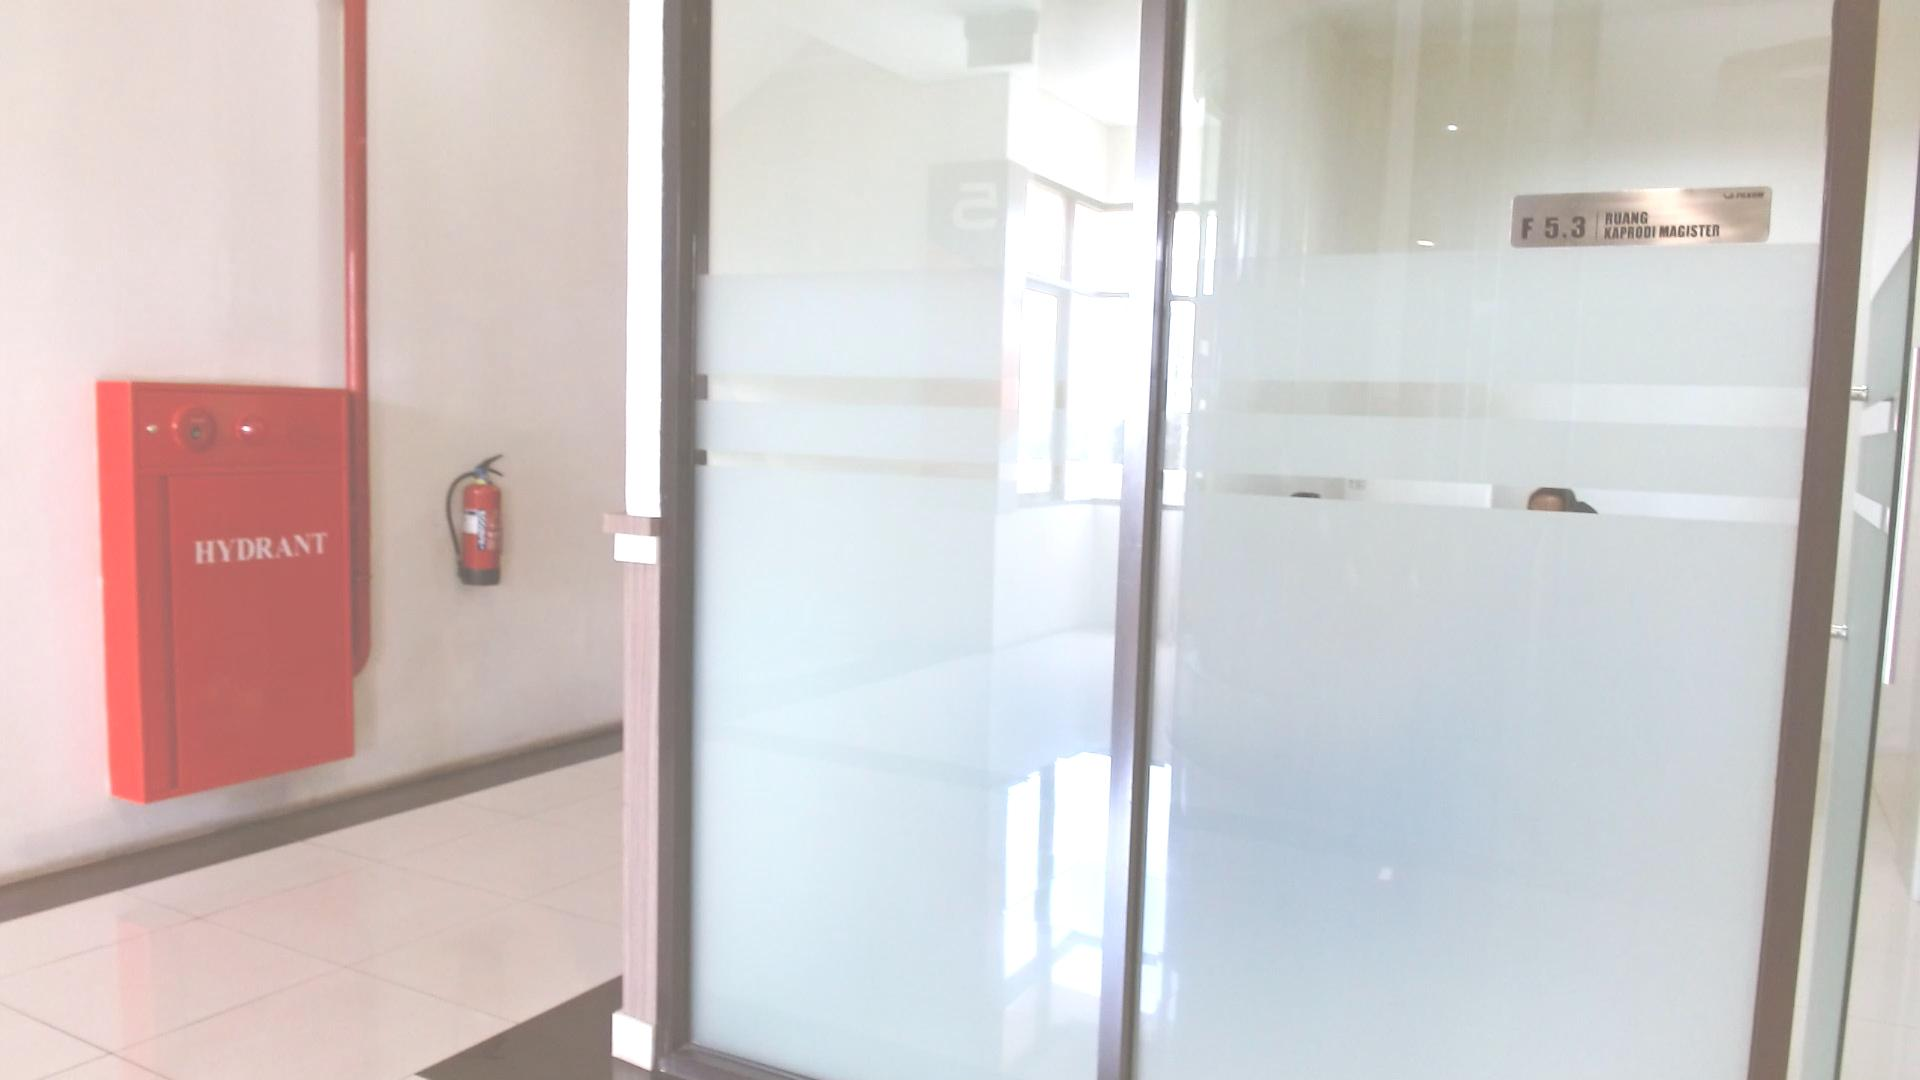plate: (1509, 185, 1774, 252)
